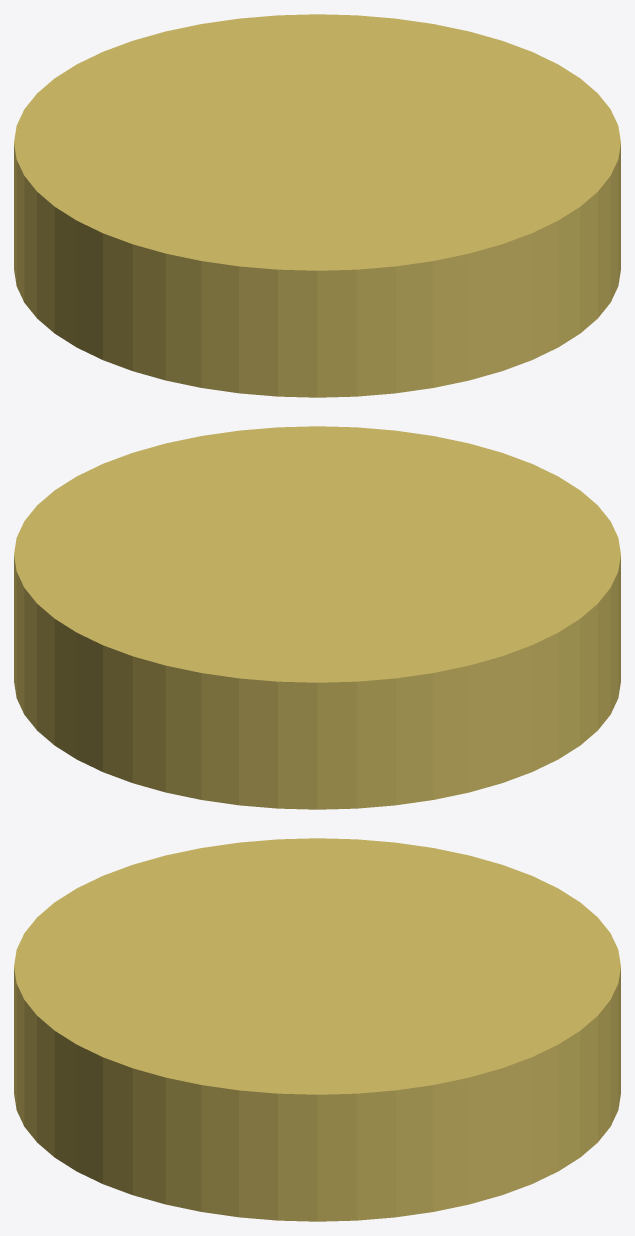
Rendered from coin_yellow.glb.
The picture shows the model from 3 angles, top to bottom: view 1: azimuth 30°, elevation 25°; view 2: azimuth 150°, elevation 25°; view 3: azimuth 270°, elevation 25°; orthographic projection.
Visible parts, largest first — view 1: world; view 2: world; view 3: world.
Boxes of the visible parts, x1,y1,x2,y2 form: world: [14, 14, 620, 397]; world: [14, 426, 620, 809]; world: [14, 838, 620, 1221].
Bounding box in the file's own units: 0.78 × 0.18 × 0.78.
